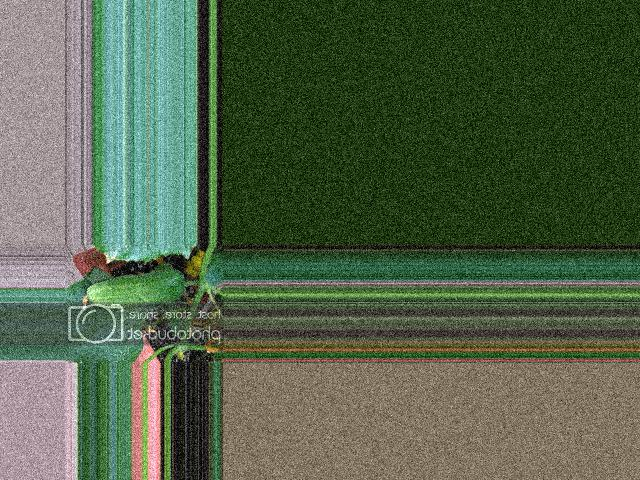cucumber: (85, 269, 183, 309)
